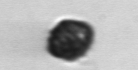plankton: (42, 16, 99, 63)
